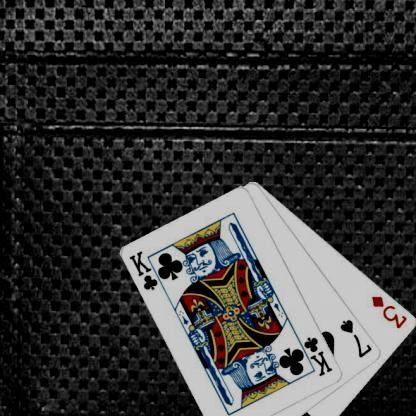3D: (369, 292, 409, 330)
7S: (338, 317, 374, 359)
KC: (294, 335, 334, 378), (127, 249, 167, 292)
